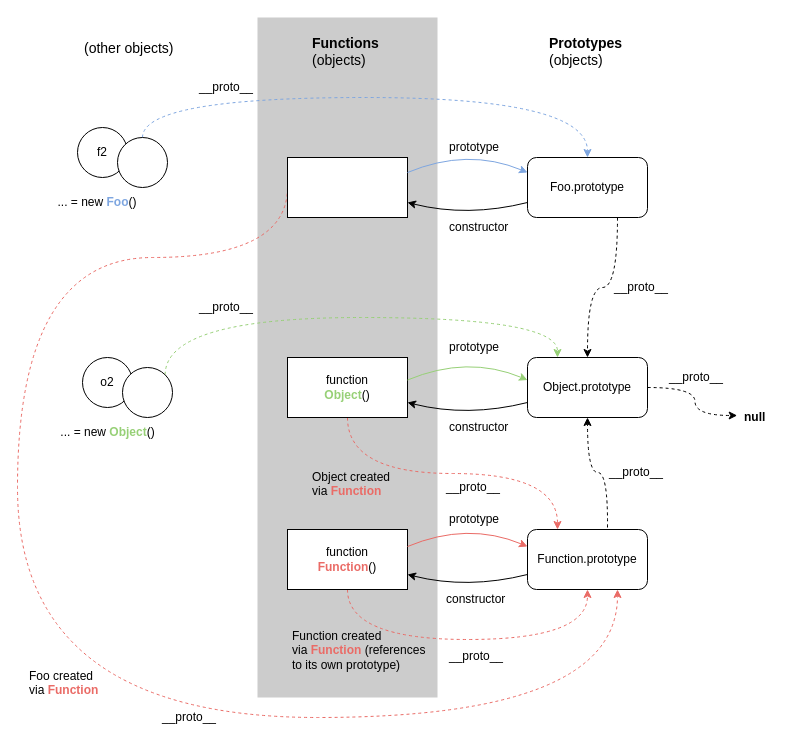
Some shapes in this 800 by 744 pixel diagram are drawn without their labels. Here are the shapes that lost their labels. From the top down, the box of each, then its label:
(116, 136, 168, 188): f1
(286, 156, 408, 218): function Foo ()
(122, 366, 172, 418): o1
